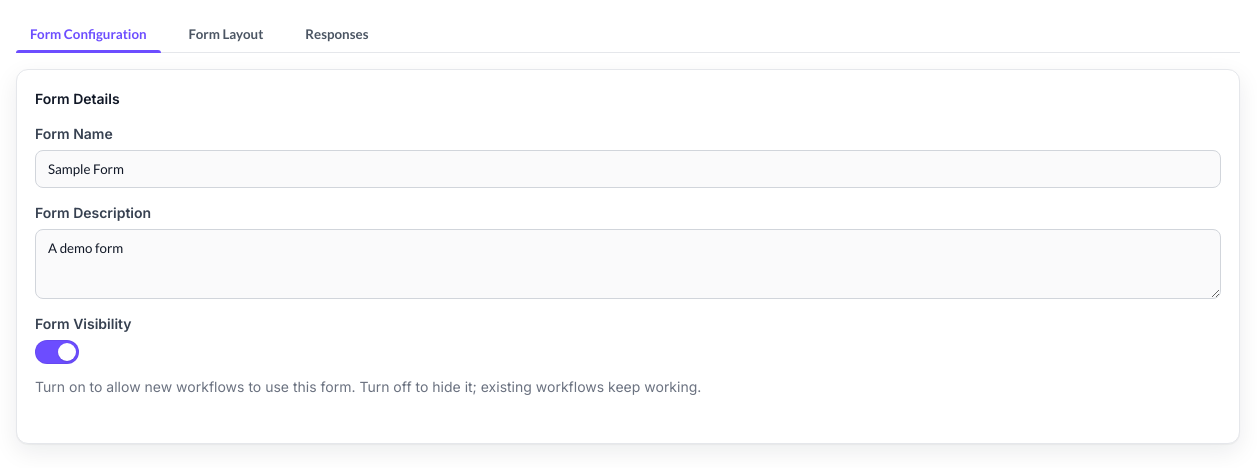
Test: ViewForm page › tries multiple endpoints for username resolution
Expected: the text "Form Details" is shown, [35,90,120,107]
# Switch to responses
Click the tab "Responses" at (337, 34), box [291,16,382,52]
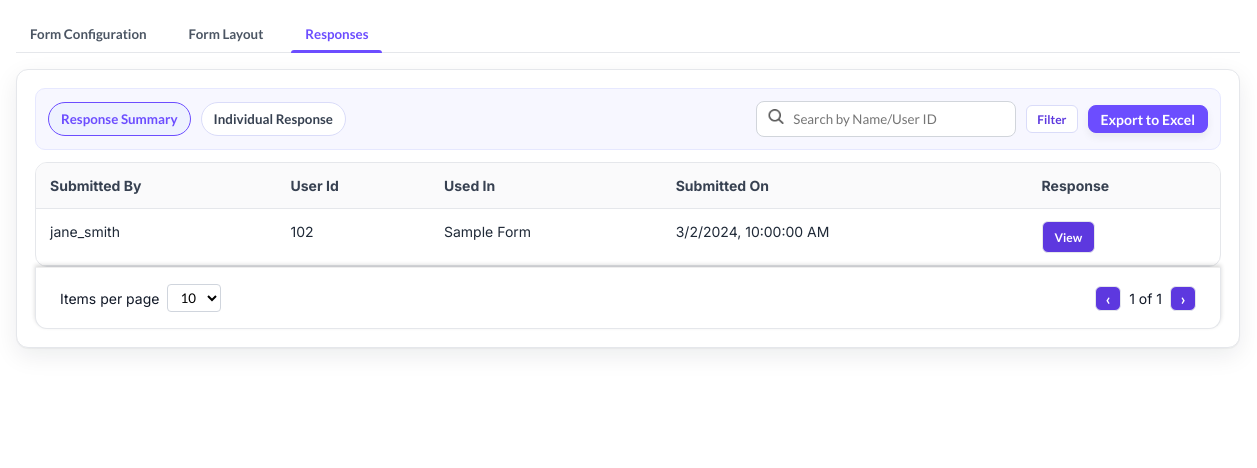
Expected: the text "jane_smith" is shown, [36,209,276,266]
